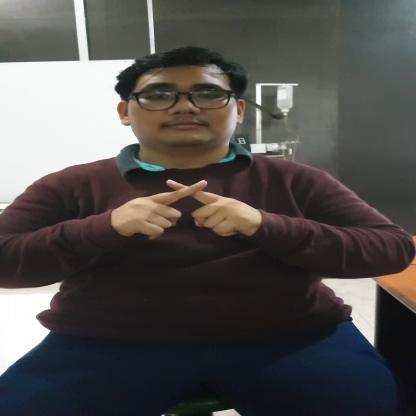X: (119, 178, 250, 240)
